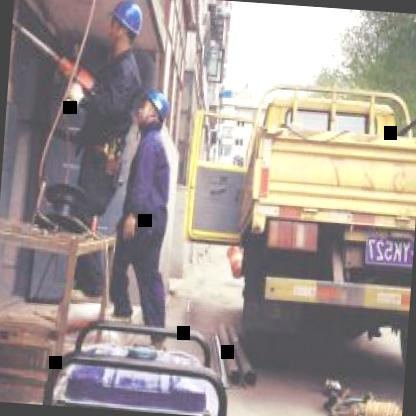helmet: (108, 0, 146, 50), (135, 88, 171, 134)
